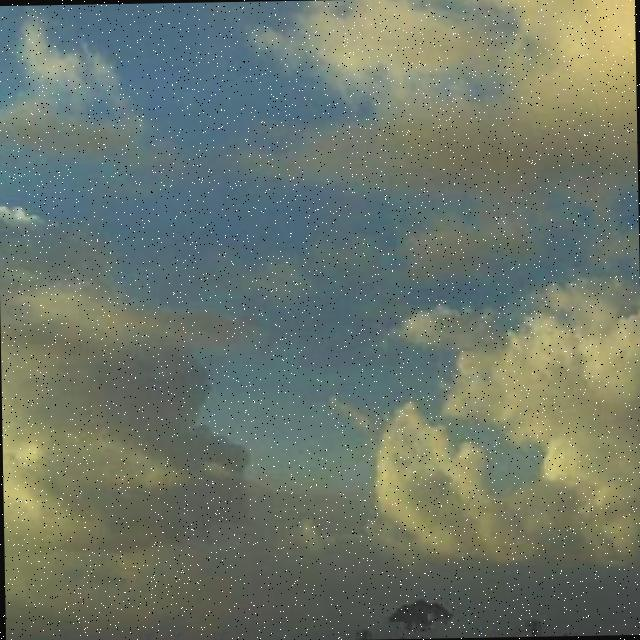Sc: (1, 2, 640, 511)
